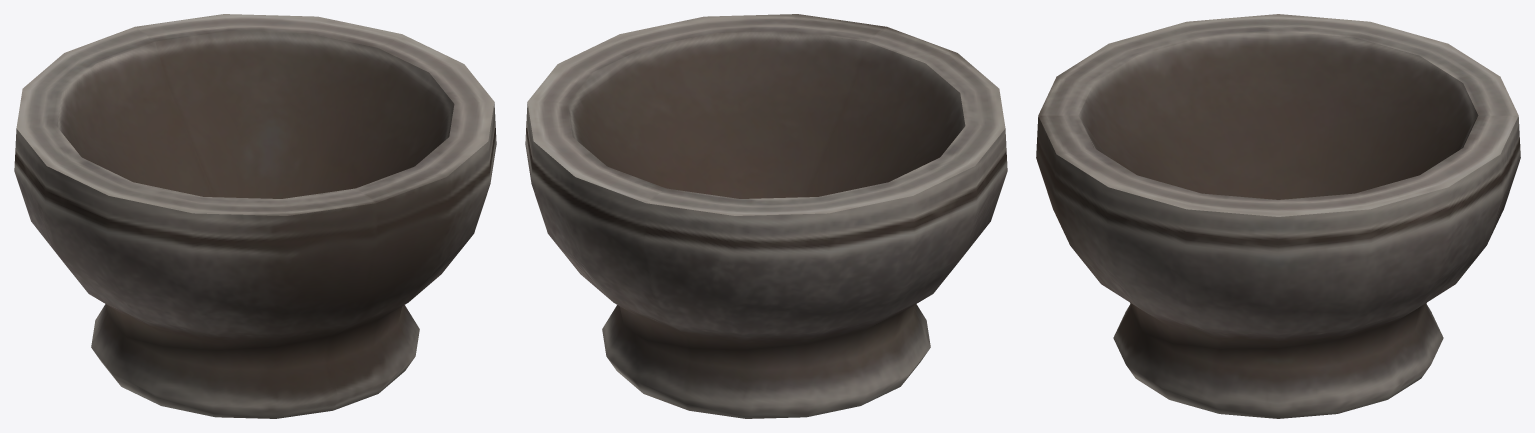
The model's file is SM_Pestle.fbx.
3 renders of one model, left to right at view 1: azimuth 30°, elevation 25°; view 2: azimuth 150°, elevation 25°; view 3: azimuth 270°, elevation 25°, orthographic.
Parts seen in each view (by area): view 1: SM_Pestle_LOD0; view 2: SM_Pestle_LOD0; view 3: SM_Pestle_LOD0.
Part boxes in pixels (left/top/right/bottom): SM_Pestle_LOD0: left=14, top=14, right=496, bottom=418; SM_Pestle_LOD0: left=525, top=14, right=1007, bottom=418; SM_Pestle_LOD0: left=1036, top=14, right=1520, bottom=418.
Size of the model in its own units: 24.81 by 24.81 by 13.45.
Materials: 1 (1 with a texture image).
